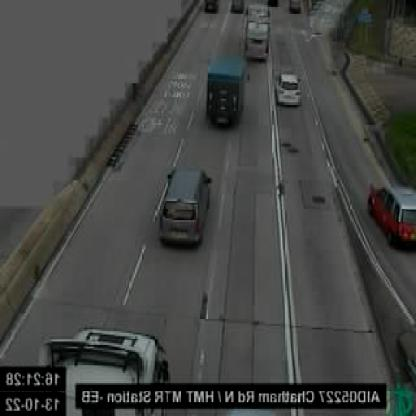Bus: (242, 1, 272, 63)
Car: (157, 165, 212, 248), (367, 179, 416, 252), (276, 71, 300, 107)
Truck: (204, 53, 244, 129)
